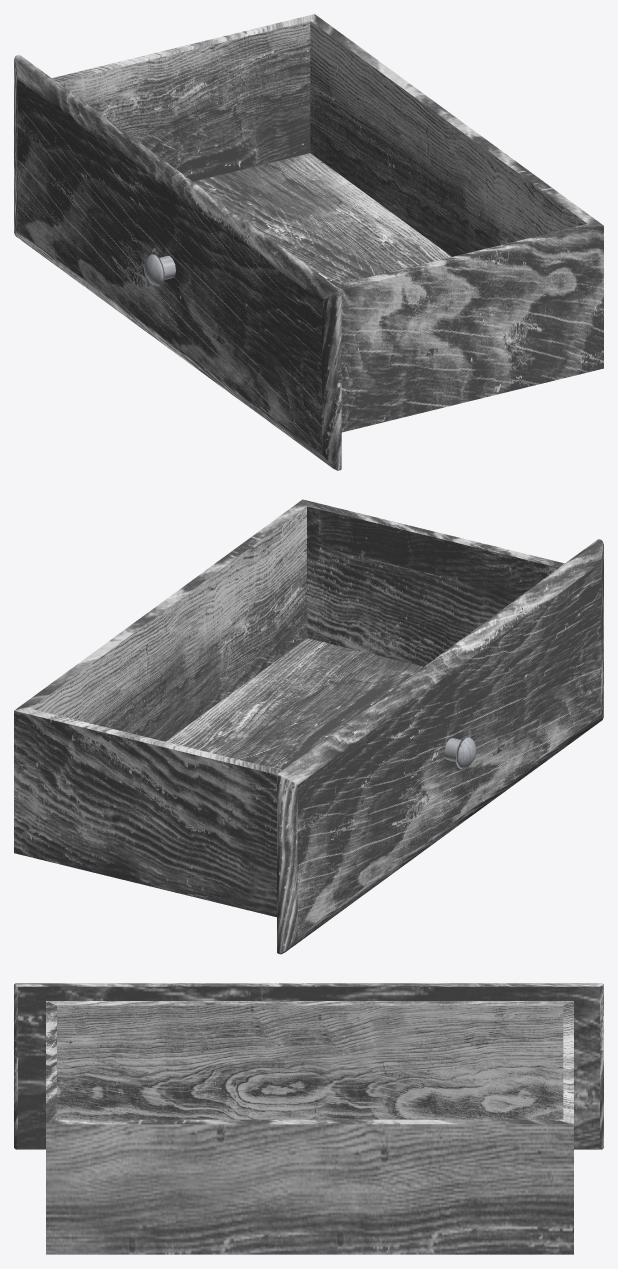
File: SM_Wardrobe_A1_Cab2.fbx
3 renders of one model, top to bottom at view 1: azimuth 30°, elevation 25°; view 2: azimuth 150°, elevation 25°; view 3: azimuth 270°, elevation 25°, orthographic. The views are drawn at different scales.
Parts seen in each view (by area): view 1: SM_Wardrobe_A1_Cab2; view 2: SM_Wardrobe_A1_Cab2; view 3: SM_Wardrobe_A1_Cab2.
Boxes of the visible parts, x1=… form: SM_Wardrobe_A1_Cab2: x1=14, y1=14, x2=603, y2=470; SM_Wardrobe_A1_Cab2: x1=14, y1=499, x2=603, y2=954; SM_Wardrobe_A1_Cab2: x1=14, y1=983, x2=603, y2=1254.
Size of the model in its own units: 47.55 by 84.54 by 26.07.
2 materials, 2 textured.
